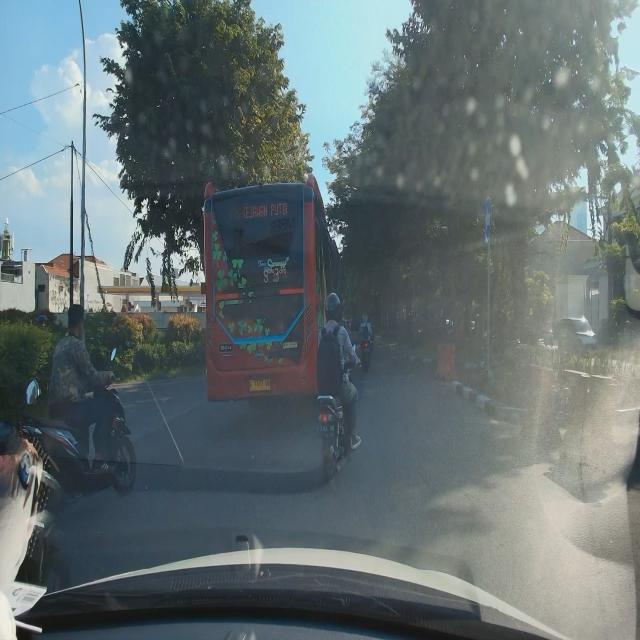bus: (203, 174, 344, 404)
license-plate: (249, 379, 271, 391)
